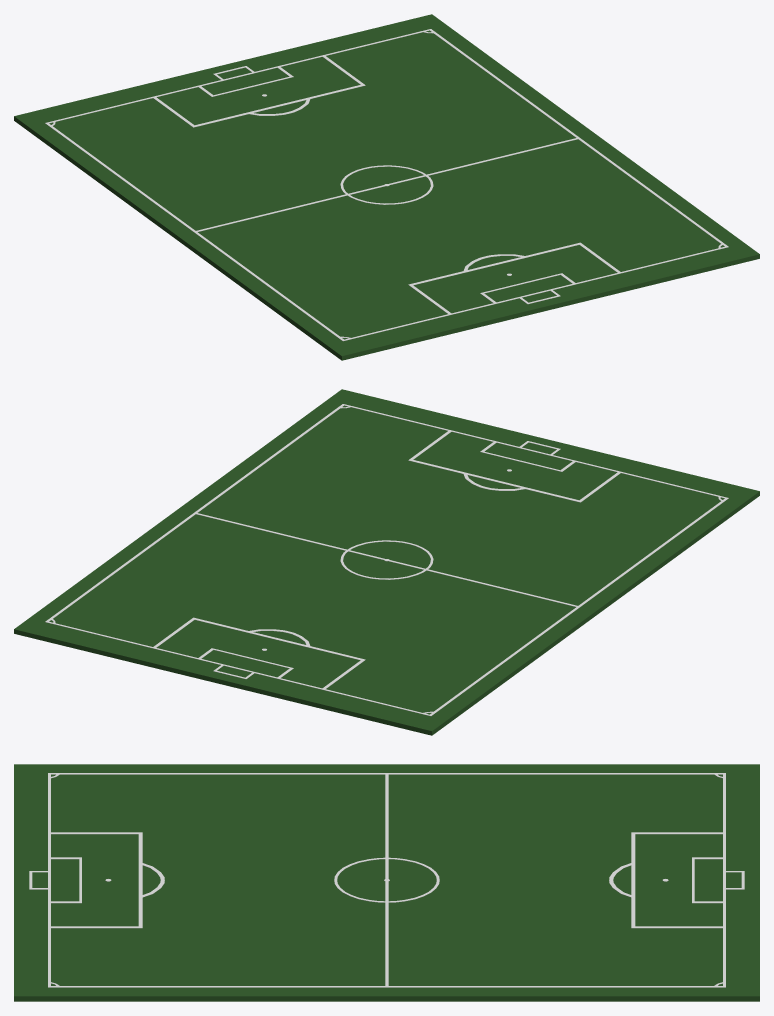
Rendered from Soccer Pitch.fbx.
The picture shows the model from 3 angles, top to bottom: view 1: azimuth 30°, elevation 25°; view 2: azimuth 150°, elevation 25°; view 3: azimuth 270°, elevation 25°; orthographic projection. The views are drawn at different scales.
Parts seen in each view (by area): view 1: Soccer Pitch; view 2: Soccer Pitch; view 3: Soccer Pitch.
Part boxes in pixels (<box>): Soccer Pitch: <box>14,14,759,360</box>; Soccer Pitch: <box>14,389,759,735</box>; Soccer Pitch: <box>14,764,759,1001</box>.
Size of the model in its own units: 19351 by 212 by 26292.
